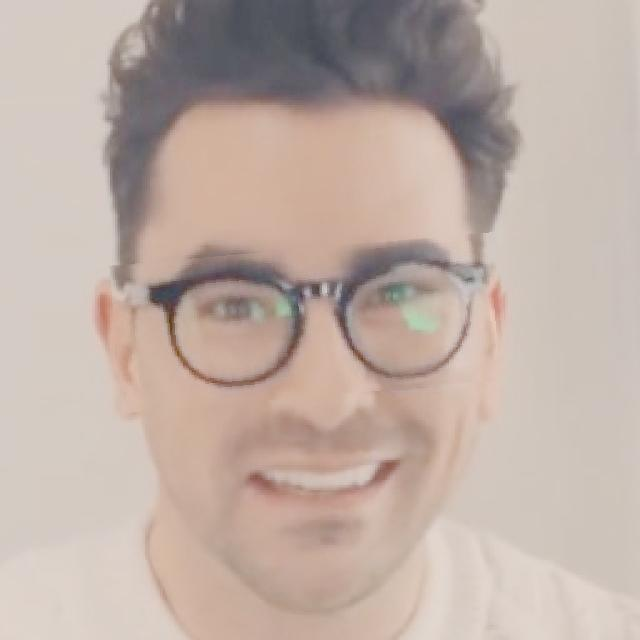glasses: (112, 241, 507, 405)
